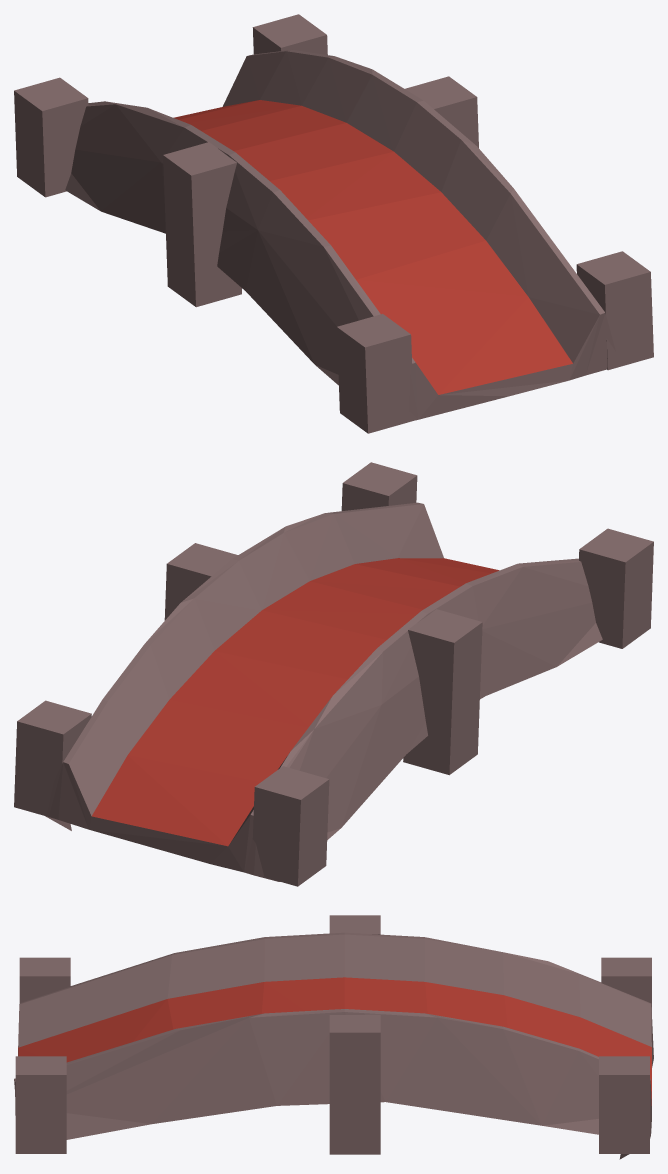
File: redStreet.fbx
3 renders of one model, top to bottom at view 1: azimuth 30°, elevation 25°; view 2: azimuth 150°, elevation 25°; view 3: azimuth 270°, elevation 25°, orthographic. The views are drawn at different scales.
Parts seen in each view (by area): view 1: Torus; view 2: Torus; view 3: Torus.
Boxes of the visible parts, left/top/right/bottom form: Torus: left=14, top=14, right=653, bottom=433; Torus: left=14, top=462, right=653, bottom=886; Torus: left=14, top=915, right=653, bottom=1159.
Size of the model in its own units: 0.5968 by 0.2819 by 0.1491.
